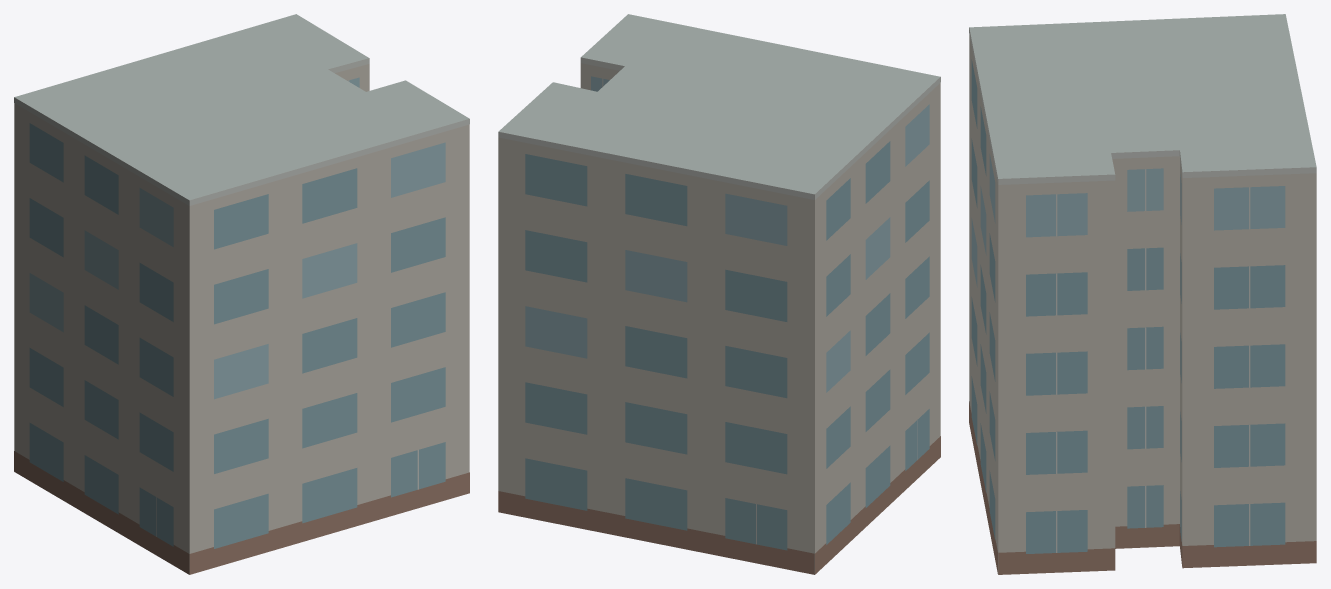
Rendered from survey-upis-32529727.glb.
3 views of the same model, side by side, from view 1: azimuth 30°, elevation 25°; view 2: azimuth 150°, elevation 25°; view 3: azimuth 270°, elevation 25° (orthographic). The views are drawn at different scales.
Visible parts, largest first — view 1: survey-upis-32529727.tmp; view 2: survey-upis-32529727.tmp; view 3: survey-upis-32529727.tmp.
Part boxes in pixels (<box>): survey-upis-32529727.tmp: <box>14,14,469,574</box>; survey-upis-32529727.tmp: <box>498,14,940,574</box>; survey-upis-32529727.tmp: <box>969,14,1316,574</box>.
Bounding box in the file's own units: 14.39 × 16.1 × 12.81.
